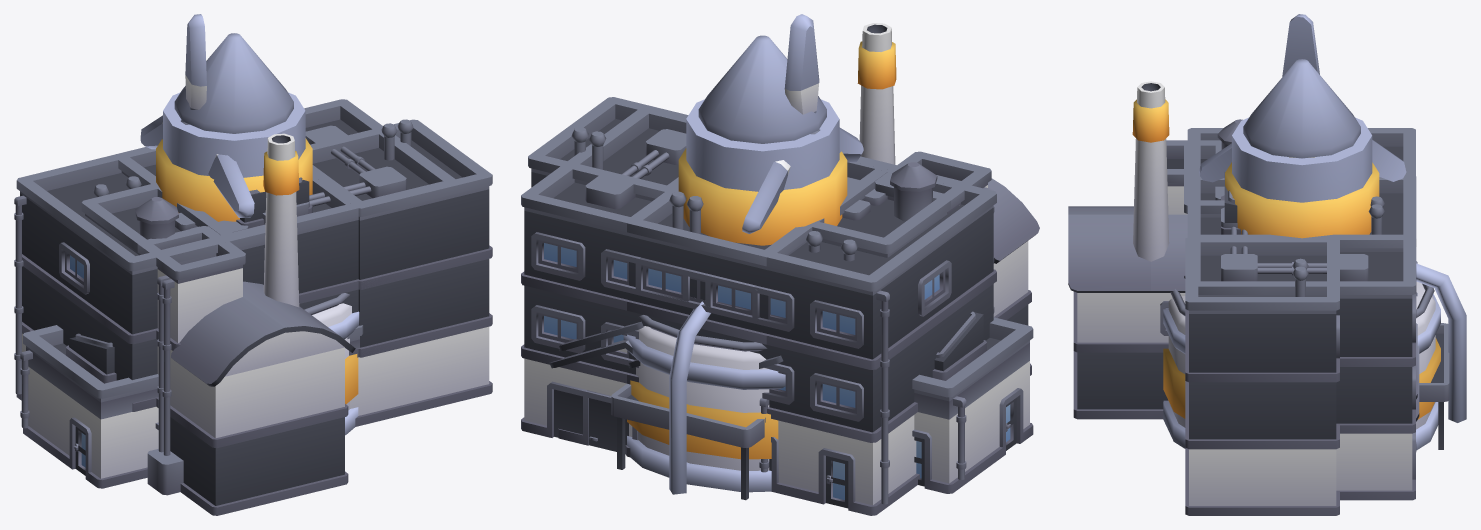
Rendered from industrial.glb.
3 renders of one model, left to right at view 1: azimuth 30°, elevation 25°; view 2: azimuth 150°, elevation 25°; view 3: azimuth 270°, elevation 25°, orthographic. The views are drawn at different scales.
Visible parts, largest first — view 1: building-r~0, building-n~0, building-a~0, chimney-large~0, water-tower~0, building-g~0, windmill~1, building-d~0, detail-tank-large~0; view 2: building-a~0, building-r~0, building-d~0, detail-tank-large~0, chimney-large~0, building-n~0, water-tower~0, building-g~0, windmill~1; view 3: building-r~0, building-a~0, building-n~0, chimney-large~0, detail-tank-large~0, water-tower~0, building-d~0, windmill~1, building-g~0.
Boxes of the visible parts, x1,y1,x2,y2 form: building-r~0: (20, 119, 492, 488); building-n~0: (137, 133, 355, 515); building-a~0: (14, 99, 458, 411); chimney-large~0: (156, 92, 312, 221); water-tower~0: (174, 33, 293, 133); building-g~0: (81, 183, 265, 330); windmill~1: (140, 14, 254, 217); building-d~0: (118, 157, 357, 349); detail-tank-large~0: (304, 293, 359, 435); building-a~0: (521, 106, 996, 515); building-r~0: (528, 97, 1033, 493); building-d~0: (611, 162, 887, 500); detail-tank-large~0: (623, 301, 785, 494); chimney-large~0: (678, 99, 847, 245); building-n~0: (857, 23, 1039, 375); water-tower~0: (698, 35, 826, 143); building-g~0: (559, 156, 971, 472); windmill~1: (742, 14, 863, 233); building-r~0: (1185, 237, 1419, 515); building-a~0: (1187, 119, 1415, 500); building-n~0: (1068, 81, 1221, 419); chimney-large~0: (1225, 117, 1379, 238); detail-tank-large~0: (1163, 263, 1466, 450); water-tower~0: (1243, 59, 1360, 158); building-d~0: (1200, 172, 1449, 451); windmill~1: (1199, 14, 1406, 182); building-g~0: (1184, 140, 1417, 399).
Bounding box in the file's own units: 2.48 × 2.31 × 2.16.
1 material, 1 textured.
